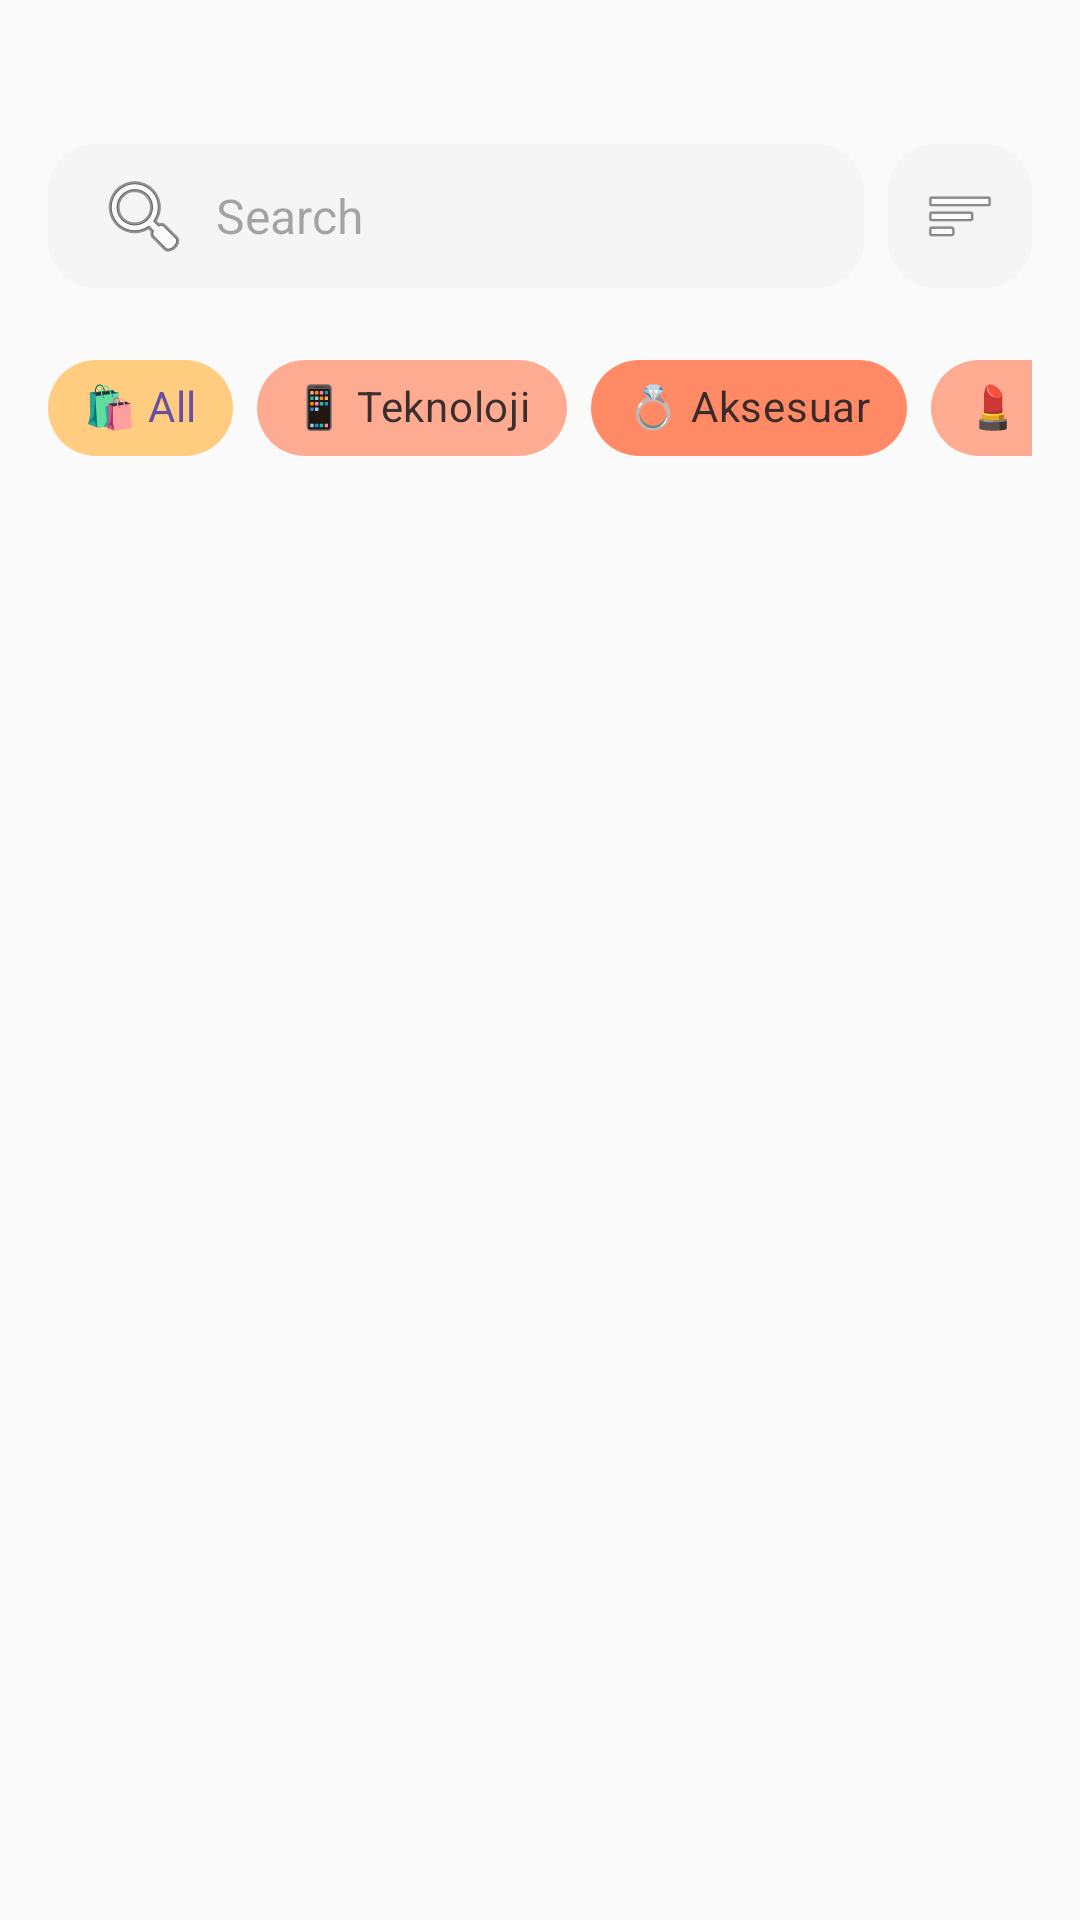

Icon bounding boxes for this 1080px×1920px phone screenshot, format (x1, y1, x2, y2):
Sıralama: (929, 196, 991, 237)
